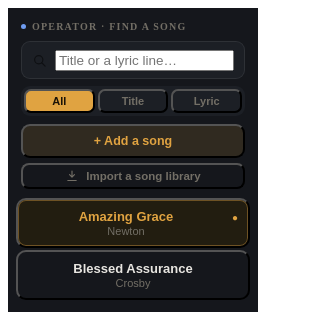
Test: SongSearchRail — hover forecasts what a click will do while locked (#89) › shows a ghost NEXT? on a row that a click would arm
This screenshot has width=320, height=329.
Expected: the text "NEXT?" is not shown
Hover over the button "Blessed Assurance Crosby" at (133, 275), box [16,250,250,300]
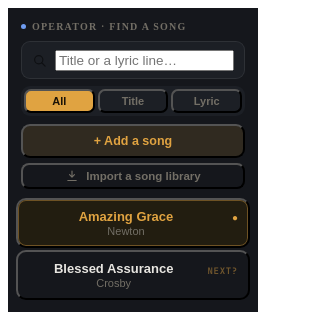
Expected: the text "NEXT?" is shown, [207,265,238,277]
Move the pointer off the button "Blessed Assurance Crosby NEXT?", box [16,250,250,300]
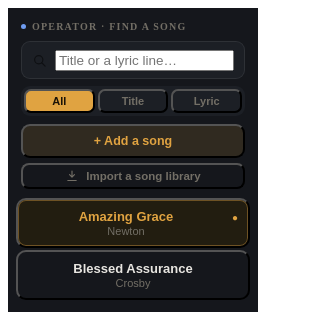
Expected: the text "NEXT?" is gone
